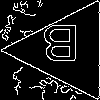B: (42, 25, 80, 70)
